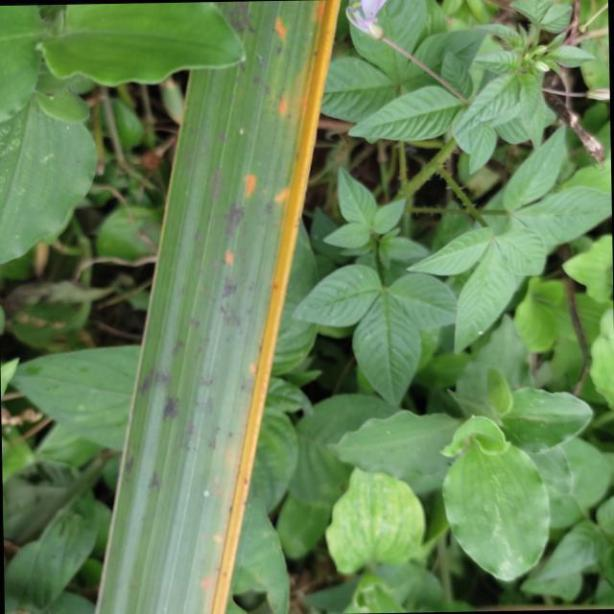Megnesium: (96, 0, 341, 614)
